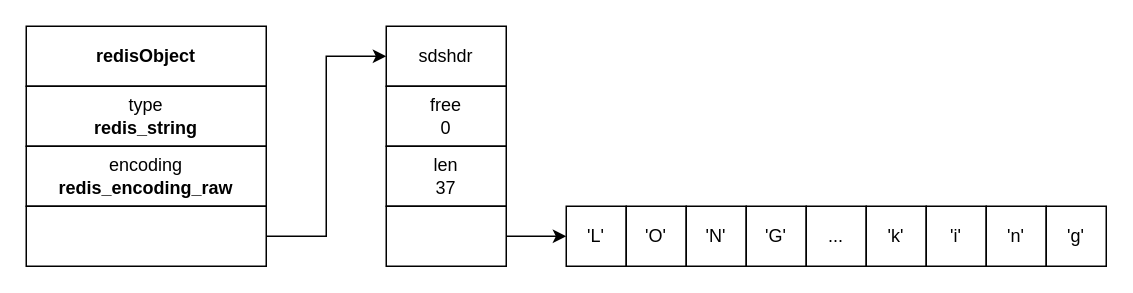
The diagram is 1133 pixels wide and 293 high, and some of its shapes have lost their labels. The shapes that lost their labels are listed below. From the top down, each one's box as (x1, y1, x2, y2) in pixels, then its label:
(25, 205, 266, 266): ptr
(385, 205, 506, 266): buf
